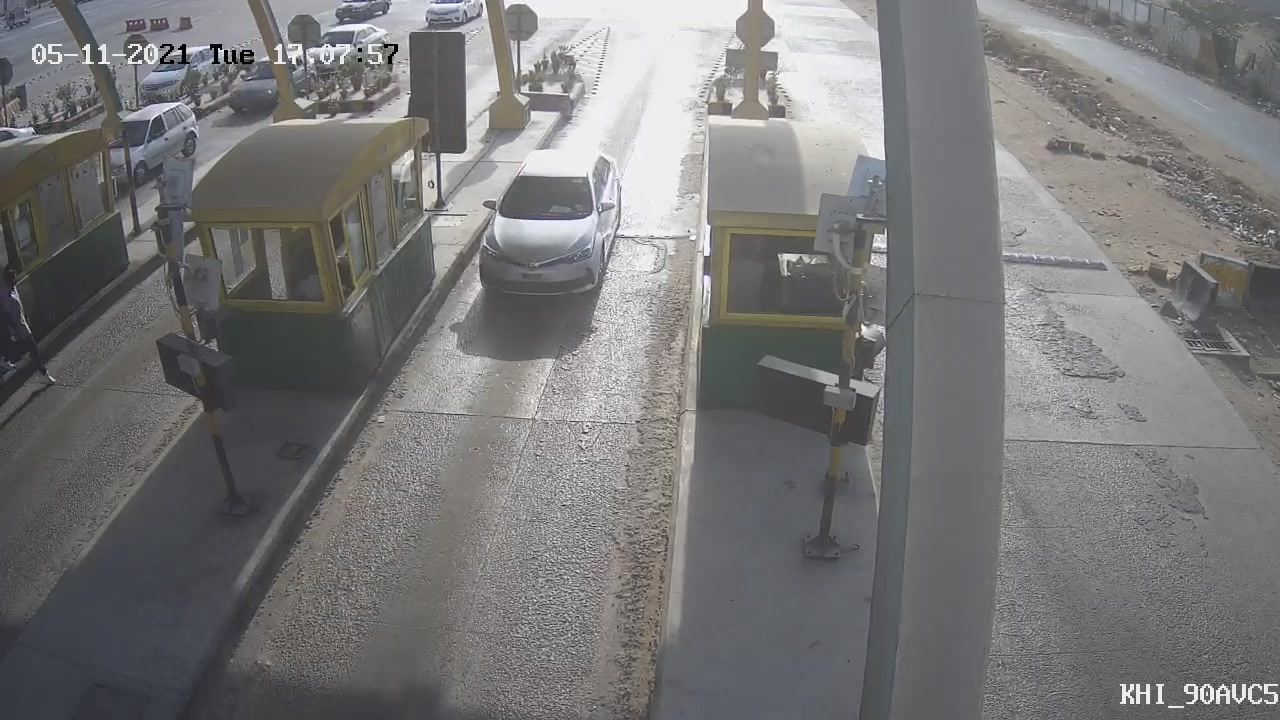F1: (456, 134, 639, 313)
